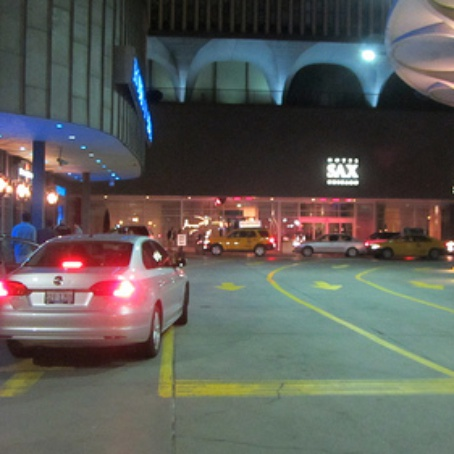building: (1, 1, 452, 215)
car: (1, 231, 194, 364), (368, 229, 449, 262), (208, 222, 280, 256), (295, 229, 371, 259)
street: (1, 264, 448, 454)
